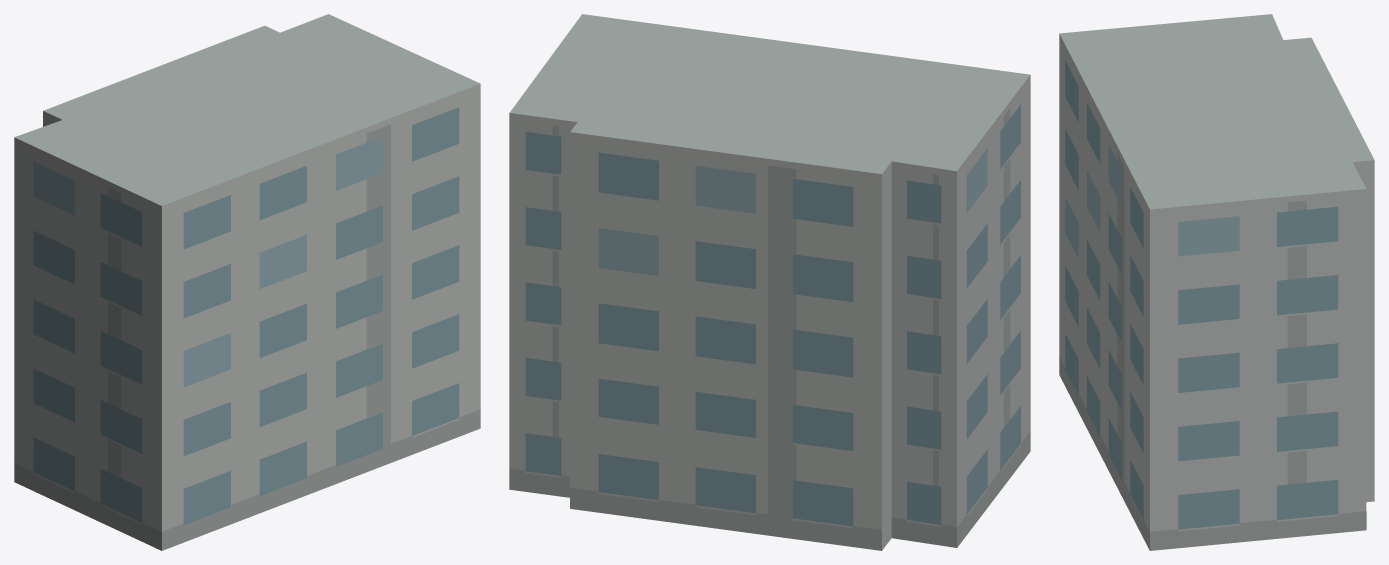
The model's file is survey-upis-32748960.glb.
3 renders of one model, left to right at view 1: azimuth 30°, elevation 25°; view 2: azimuth 150°, elevation 25°; view 3: azimuth 270°, elevation 25°, orthographic. The views are drawn at different scales.
Parts seen in each view (by area): view 1: survey-upis-32748960.tmp; view 2: survey-upis-32748960.tmp; view 3: survey-upis-32748960.tmp.
Part boxes in pixels (x1,y1,x2,y2): survey-upis-32748960.tmp: (14, 14, 480, 550); survey-upis-32748960.tmp: (509, 14, 1030, 550); survey-upis-32748960.tmp: (1059, 14, 1374, 550).
Bounding box in the file's own units: 16.96 × 13.8 × 11.56.
